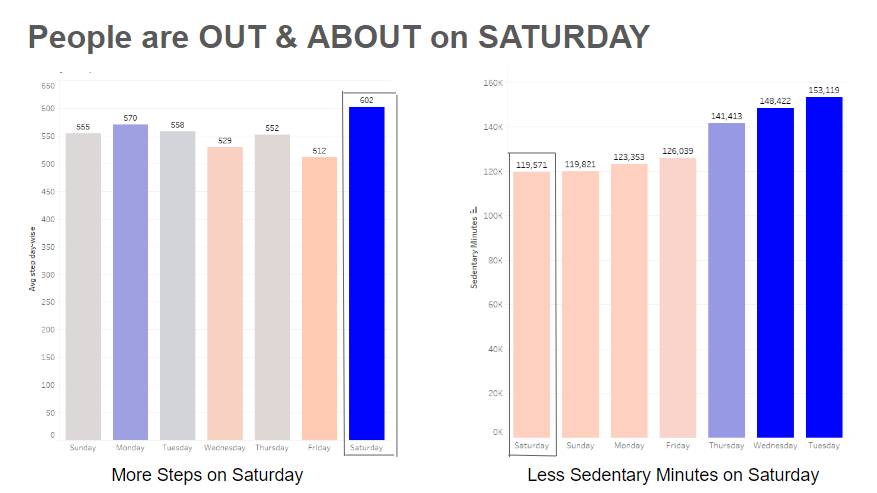

The dashboard page shown, as its layout file describes it:
{"tool":"tableau","page":{"name":"OUT & ABOUT on Saturdays","canvas":[650,860],"ordinal":1},"visuals":[{"type":"title","box":[8,9.5,634,49.8]},{"type":"worksheet","title":"Sedentary Minutes","mark":"Automatic","rows":["SedentaryMinutes"],"cols":["Weekday"],"box":[8,59.3,634,395.6]},{"type":"worksheet","title":"Weekly Steps","mark":"Automatic","rows":["Calculation_394064995546144772"],"cols":["Weekday (hourlySteps!merged)"],"box":[8,454.9,634,395.6]}]}

Visuals, with their boxes on the page's 650x860 design canvas (x1, y1, x2, y2). These are canvas units, not pixel positions in the 877x493 screenshot, which may show the page scaled, cropped or inside an application window:
title: locate(8, 10, 642, 59)
"Sedentary Minutes" worksheet: locate(8, 59, 642, 455)
"Weekly Steps" worksheet: locate(8, 455, 642, 850)
